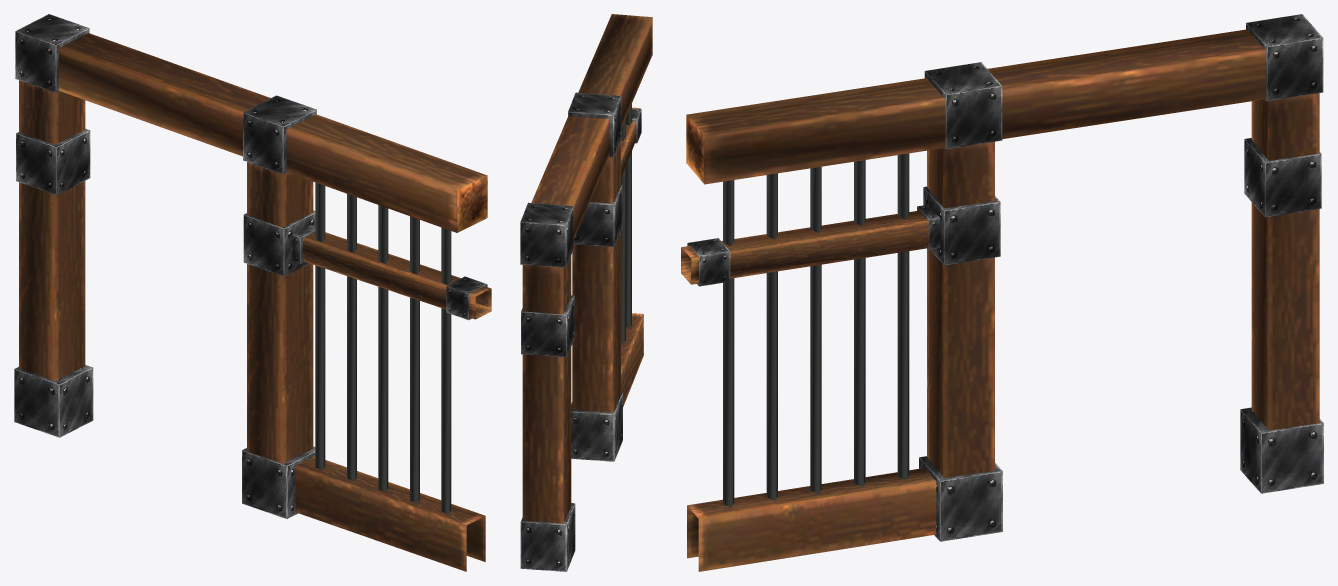
The model's file is SWORDLIGHT20_JAILCELLBARS06.fbx.
3 renders of one model, left to right at view 1: azimuth 30°, elevation 25°; view 2: azimuth 150°, elevation 25°; view 3: azimuth 270°, elevation 25°, orthographic. The views are drawn at different scales.
Parts seen in each view (by area): view 1: SWORDLIGHT20_JAILCELLBARS06; view 2: SWORDLIGHT20_JAILCELLBARS06; view 3: SWORDLIGHT20_JAILCELLBARS06.
Boxes of the visible parts, left/top/right/bottom form: SWORDLIGHT20_JAILCELLBARS06: left=14, top=14, right=491, bottom=571; SWORDLIGHT20_JAILCELLBARS06: left=520, top=14, right=652, bottom=571; SWORDLIGHT20_JAILCELLBARS06: left=681, top=14, right=1323, bottom=571.
Size of the model in its own units: 20805 by 36866 by 48019.
3 materials, 3 textured.
